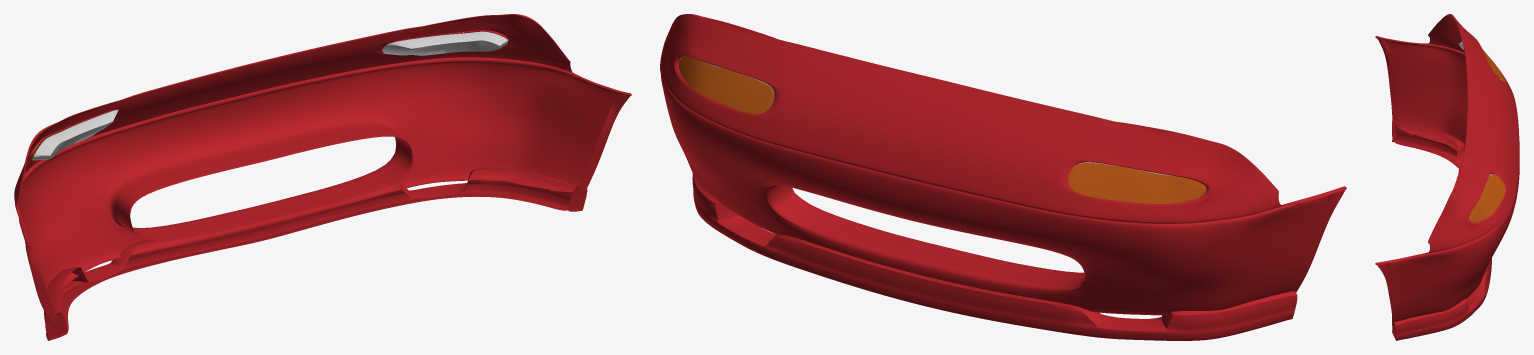
Rendered from lip-1.glb.
3 renders of one model, left to right at view 1: azimuth 30°, elevation 25°; view 2: azimuth 150°, elevation 25°; view 3: azimuth 270°, elevation 25°, orthographic. The views are drawn at different scales.
Visible parts, largest first — view 1: Miata_Aero_FrontBarLip1; view 2: Miata_Aero_FrontBarLip1; view 3: Miata_Aero_FrontBarLip1.
Boxes of the visible parts, x1,y1,x2,y2 form: Miata_Aero_FrontBarLip1: [14, 14, 631, 340]; Miata_Aero_FrontBarLip1: [660, 14, 1346, 340]; Miata_Aero_FrontBarLip1: [1375, 14, 1519, 340].
Size of the model in its own units: 64.14 by 19.41 by 17.2.
